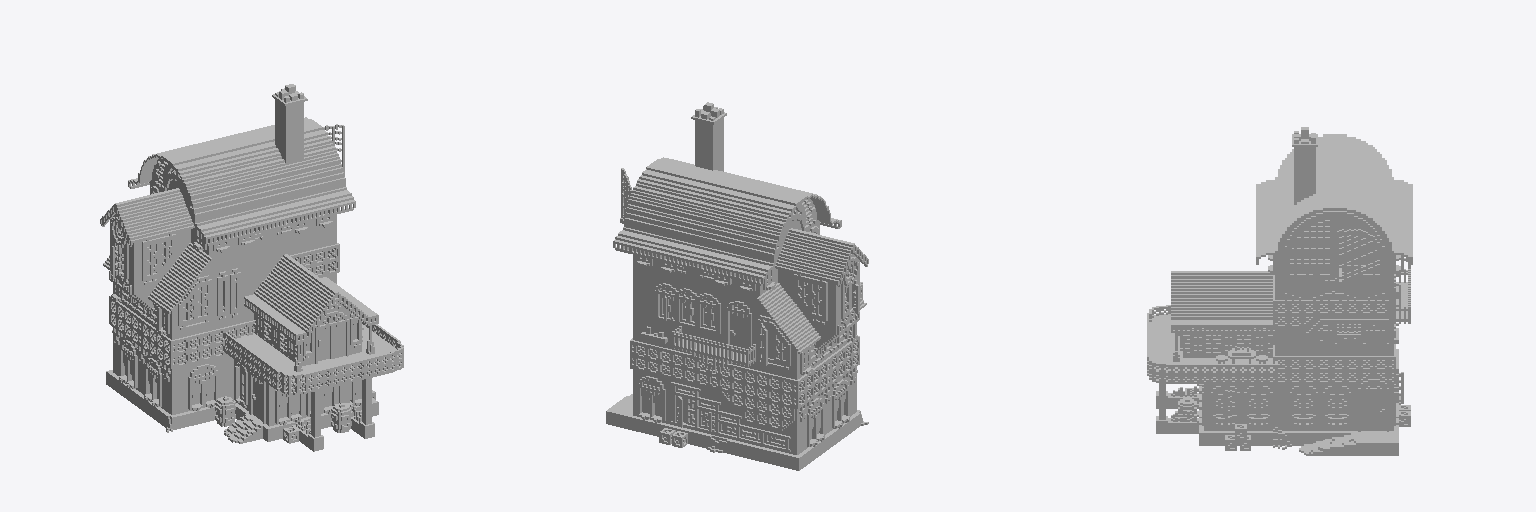
Rendered from villageBarn-0.obj.
3 renders of one model, left to right at view 1: azimuth 30°, elevation 25°; view 2: azimuth 150°, elevation 25°; view 3: azimuth 270°, elevation 25°, orthographic.
Visible parts, largest first — view 1: object 1; view 2: object 1; view 3: object 1.
Part boxes in pixels (x1,y1,x2,y2): object 1: (100,84,403,451); object 1: (606,102,868,470); object 1: (1147,127,1412,455).
Size of the model in its own units: 11.4 by 13.9 by 11.2.